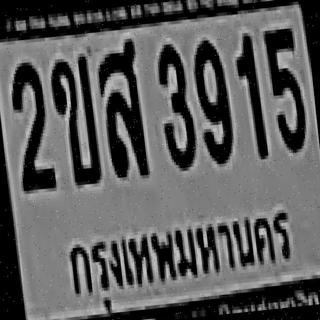A02: (46, 53, 100, 184)
A40: (93, 36, 146, 177)
N01: (232, 31, 264, 159)
N02: (6, 59, 54, 189)
N03: (154, 40, 196, 169)
N05: (262, 25, 306, 151)
N09: (190, 36, 234, 162)
P04: (56, 195, 302, 315)
